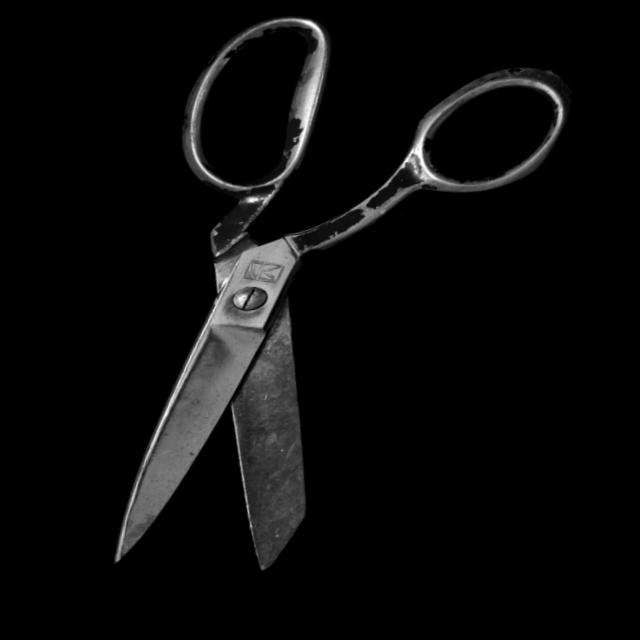scissor: (49, 0, 612, 632)
